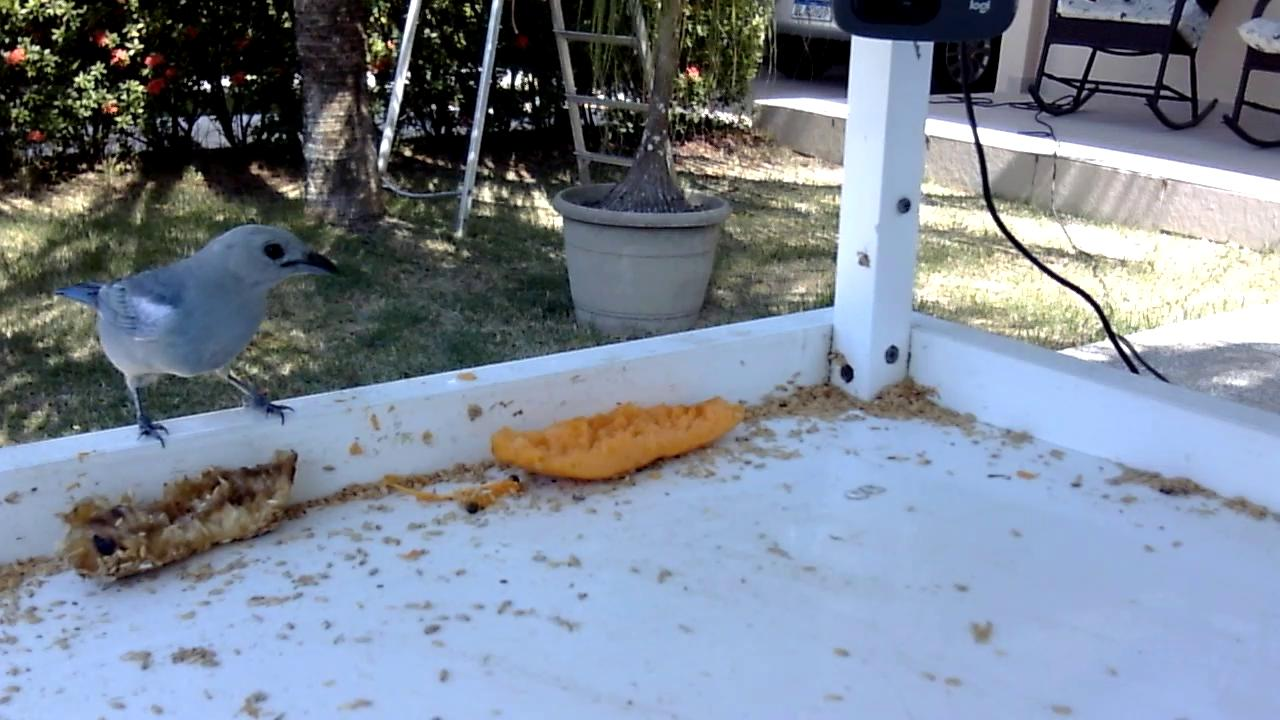sanhaco_da_amazonia: (55, 220, 347, 452)
